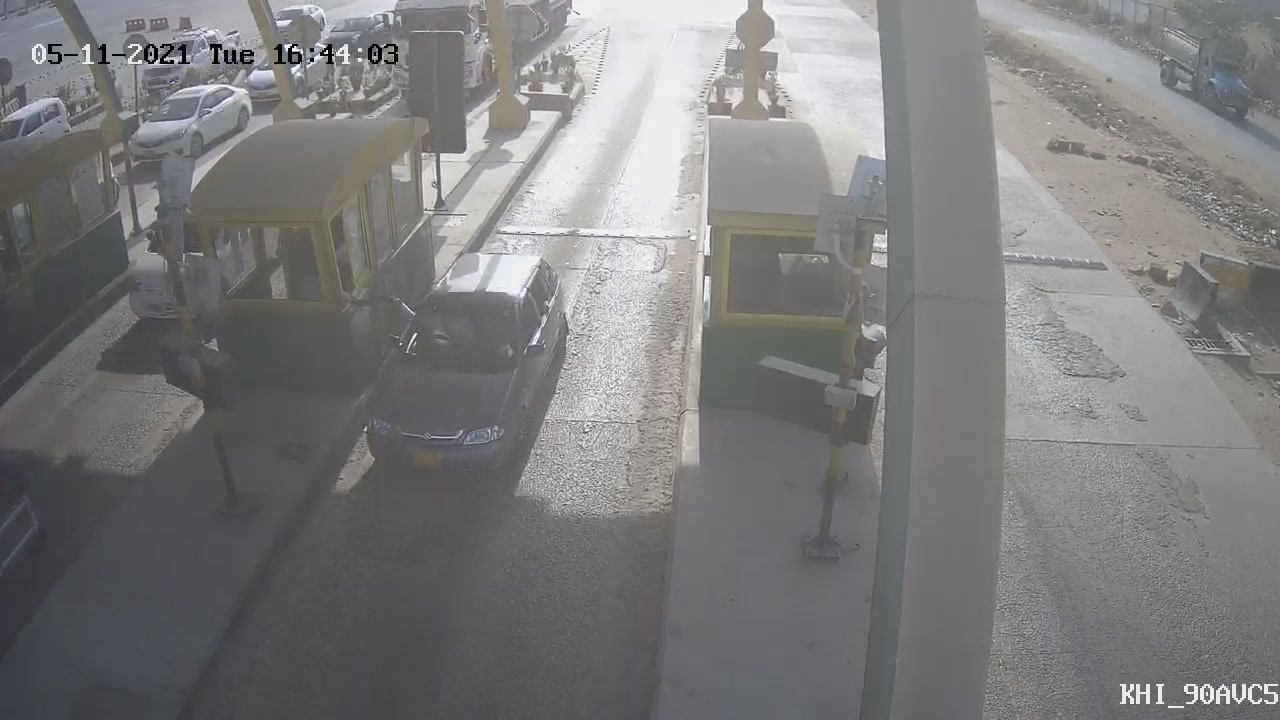F1: (346, 235, 583, 498)
